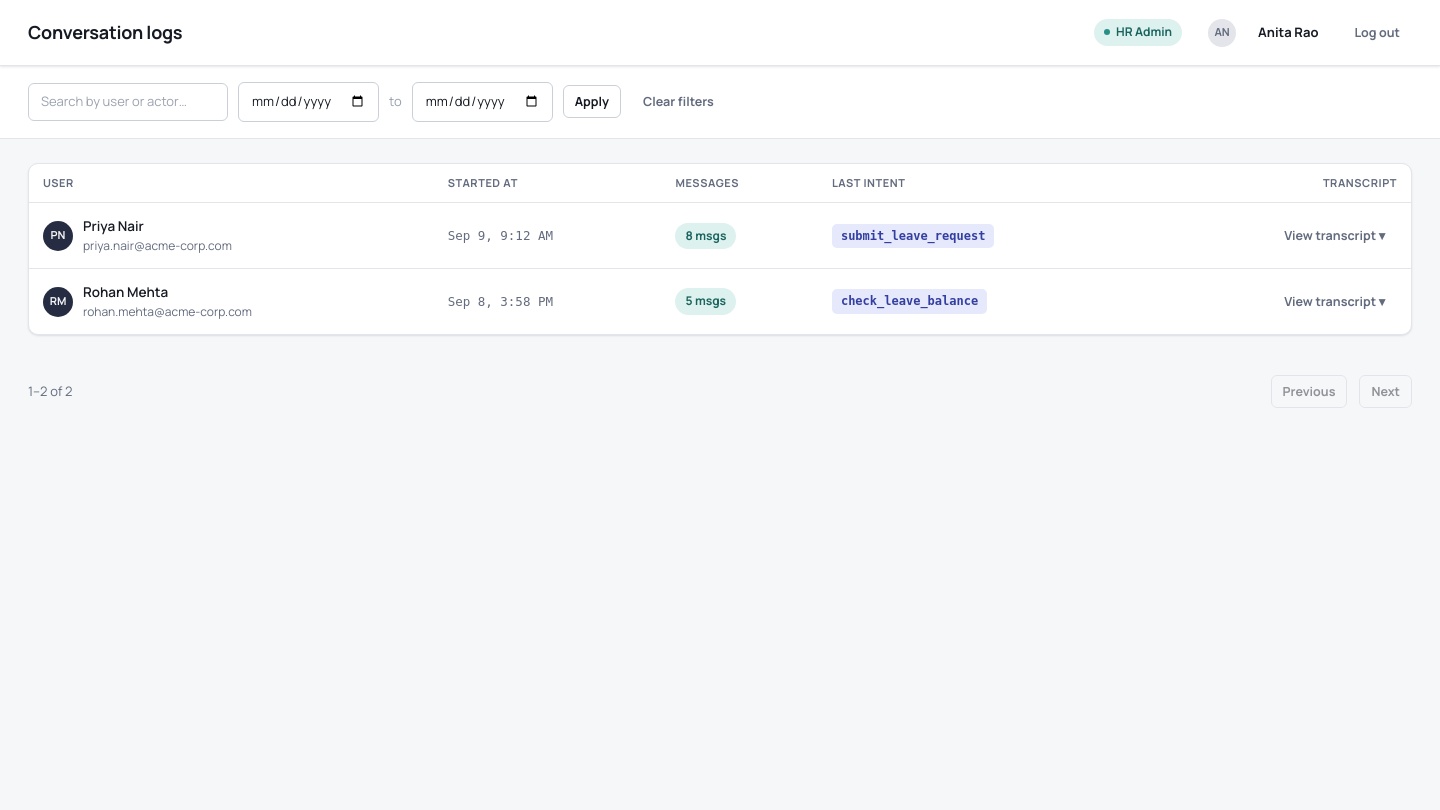
Test case: Conversation Logs page (slice-11) › expands a conversation row to display the full read-only transcript with intent and confidence
Expected: the text "Priya Nair" is shown, [83,218,144,236]
Step 1. Click the button "View transcript ▾" in the row of "PN" → (1335, 236), box [1272,219,1397,252]
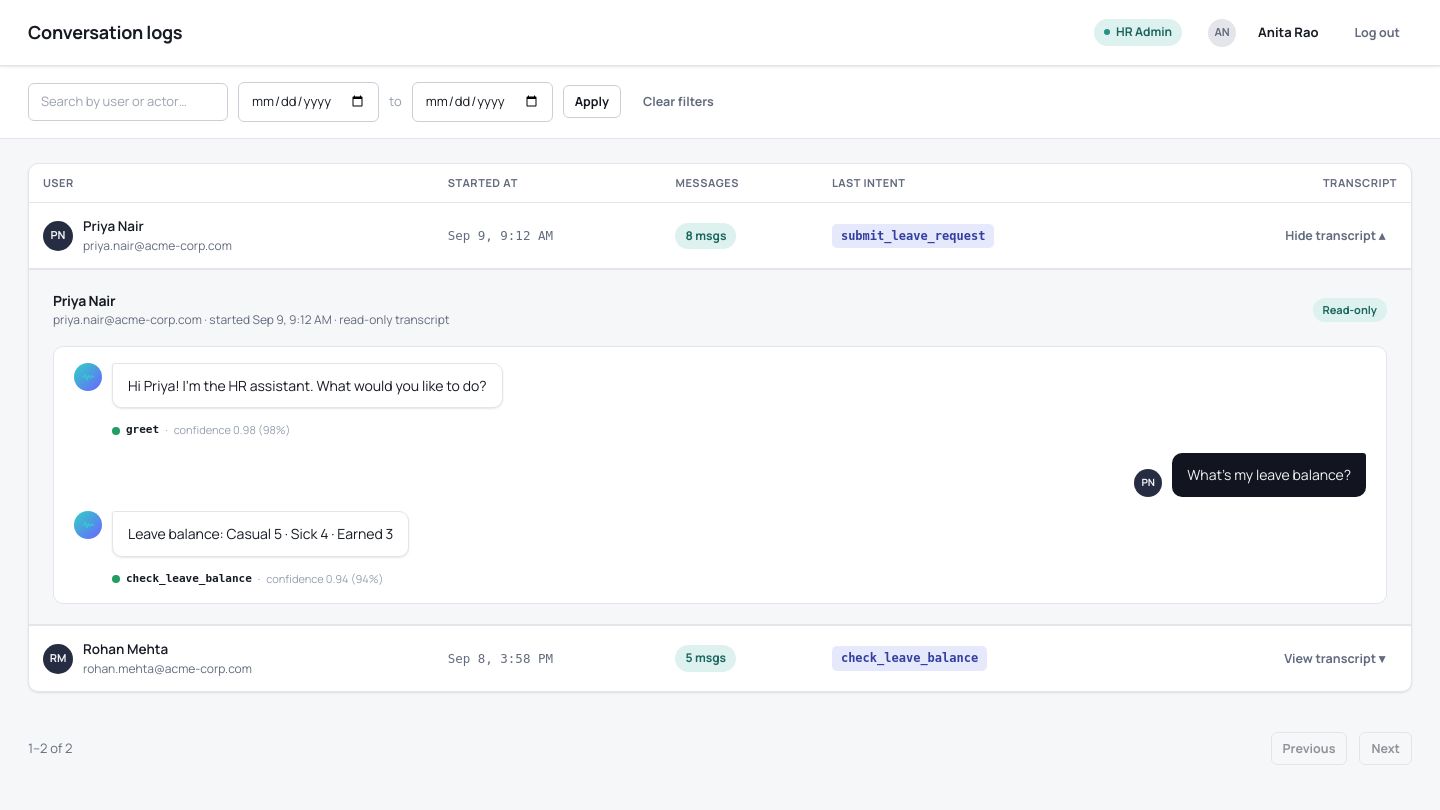
Expected: the text "Hi Priya! I'm the HR assistant. What would you like to do?" is shown, [112,363,503,408]
Expected: the text "What's my leave balance?" is shown, [1172,453,1366,497]
Expected: the text "Leave balance: Casual 5 · Sick 4 · Earned 3" is shown, [112,511,409,556]
// Click again collapses it
Step 2. Click the button "Hide transcript ▴" → (1335, 236), box [1273,219,1397,252]
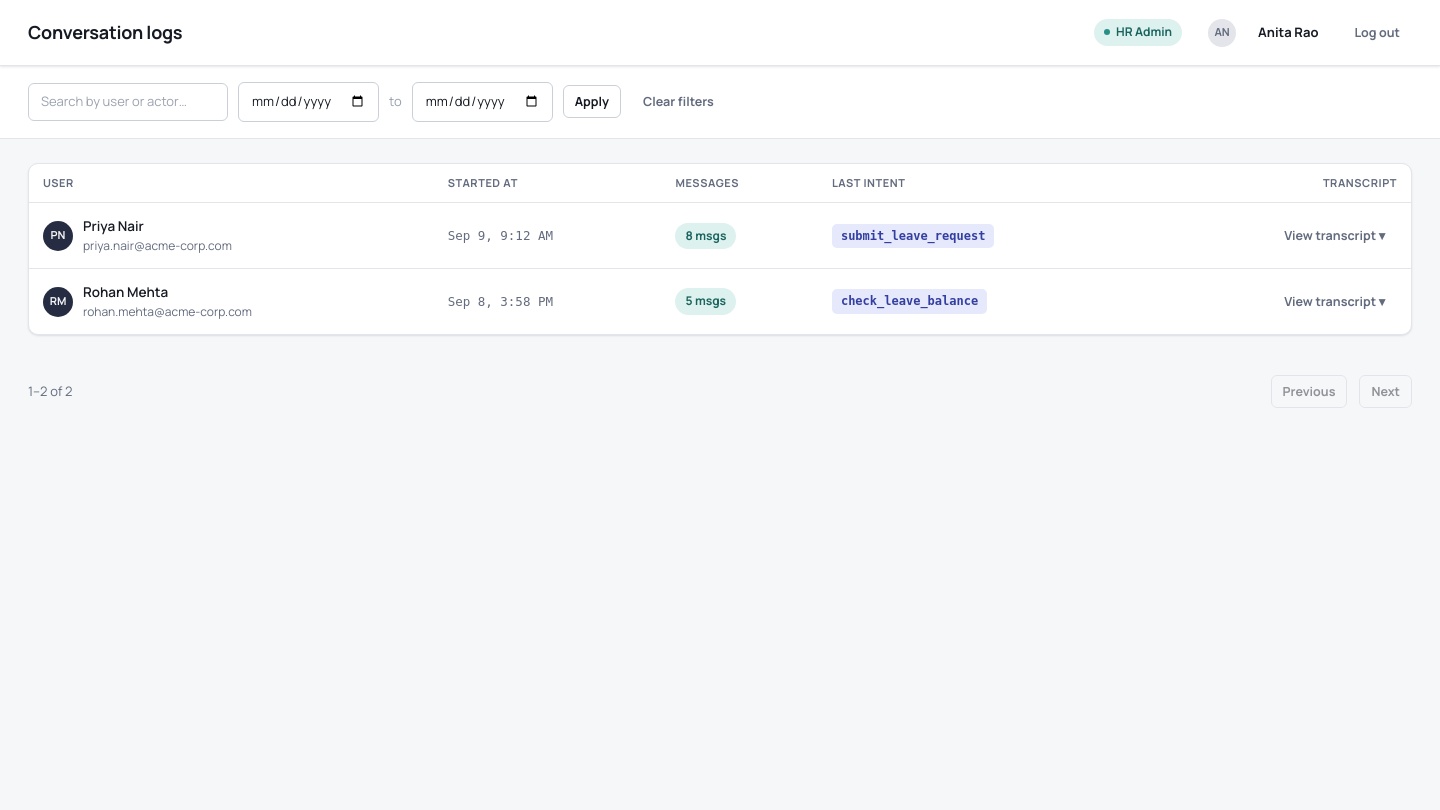
Expected: the text "Hi Priya! I'm the HR assistant. What would you like to do?" is gone
